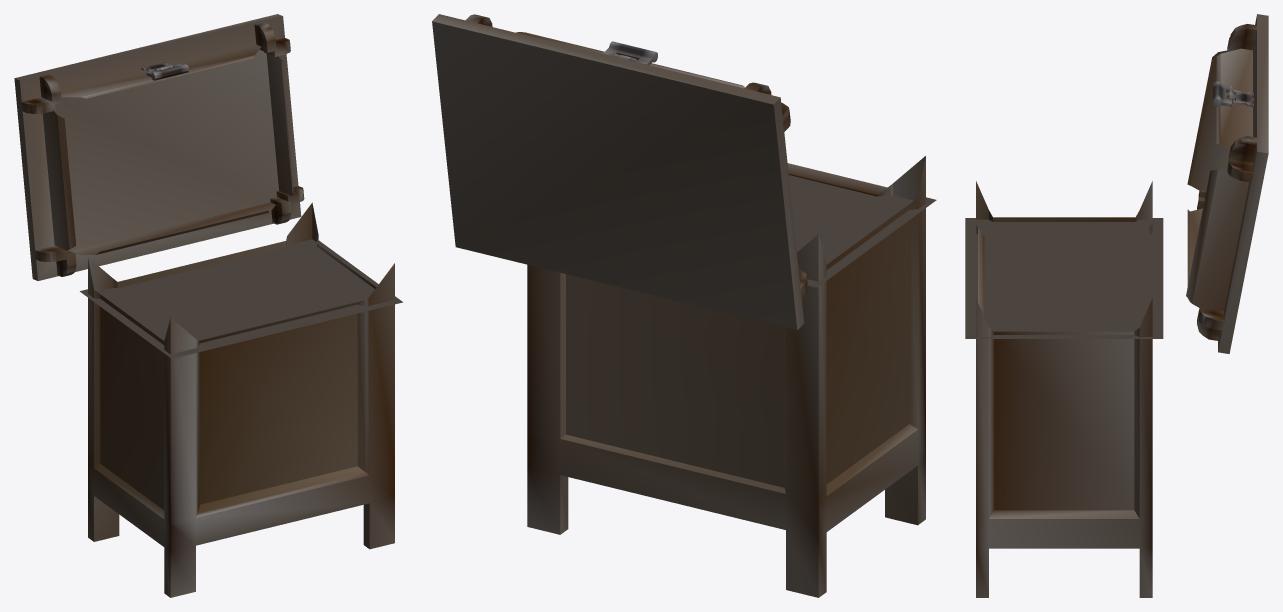
File: opened.glb
The picture shows the model from 3 angles, left to right: view 1: azimuth 30°, elevation 25°; view 2: azimuth 150°, elevation 25°; view 3: azimuth 270°, elevation 25°; orthographic projection. The views are drawn at different scales.
Parts seen in each view (by area): view 1: SM_Rice_Chest_M_Rice_Chest_0, 속면; view 2: SM_Rice_Chest_M_Rice_Chest_0, 속면; view 3: SM_Rice_Chest_M_Rice_Chest_0, 속면.
Part boxes in pixels (left/top/right/bottom): SM_Rice_Chest_M_Rice_Chest_0: left=14, top=14, right=394, bottom=597; 속면: left=80, top=239, right=402, bottom=358; SM_Rice_Chest_M_Rice_Chest_0: left=432, top=14, right=925, bottom=597; 속면: left=789, top=175, right=936, bottom=287; SM_Rice_Chest_M_Rice_Chest_0: left=976, top=14, right=1268, bottom=597; 속면: left=965, top=218, right=1163, bottom=338.
Bounding box in the file's own units: 0.8112 × 1.26 × 0.7552.
